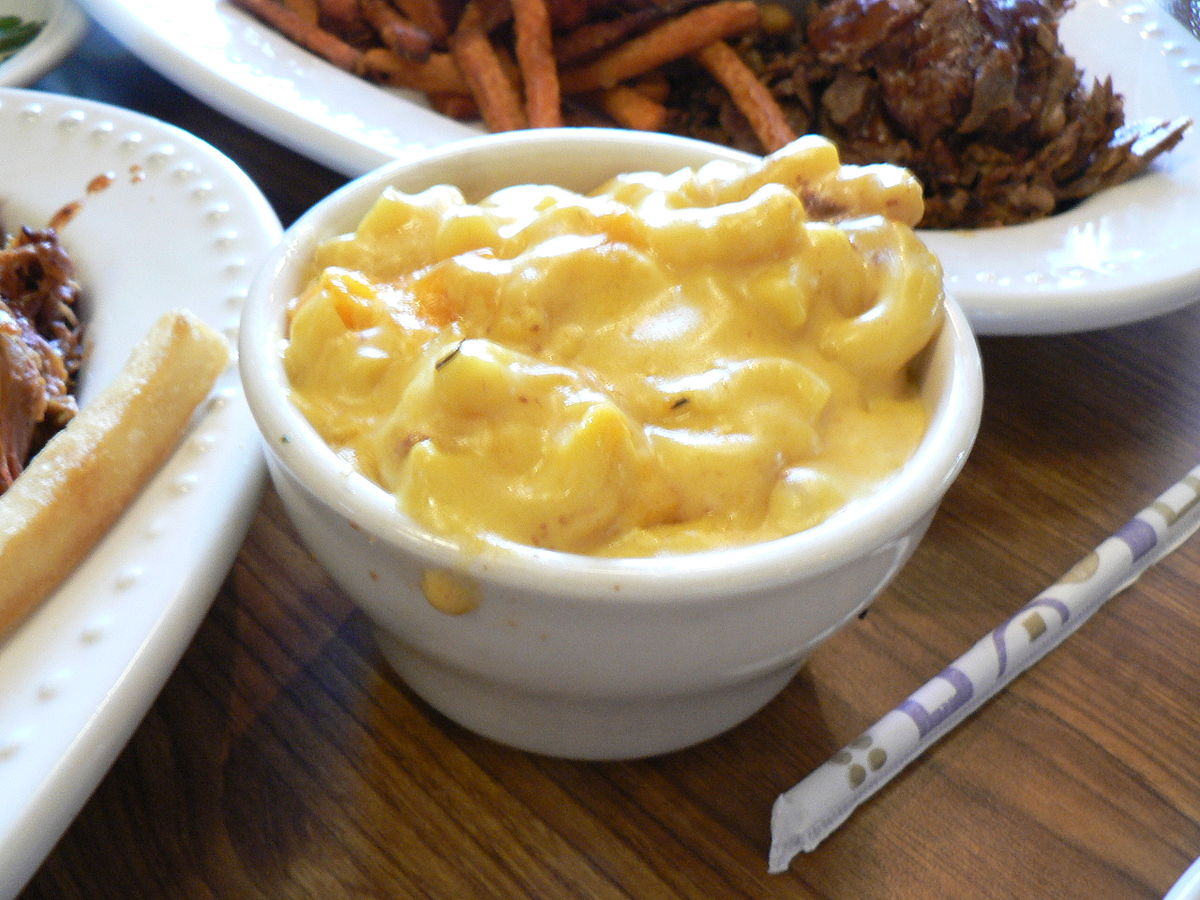cheese: (376, 191, 732, 505), (796, 217, 878, 452)
